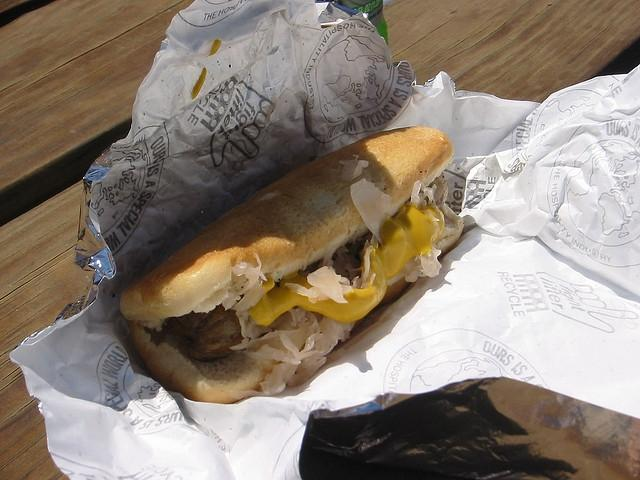onion: (350, 178, 392, 244), (307, 266, 348, 303), (235, 252, 268, 296), (260, 362, 300, 394), (283, 320, 313, 351), (232, 281, 264, 310), (254, 344, 300, 364), (419, 251, 440, 278), (410, 180, 422, 208), (294, 350, 324, 360), (308, 294, 328, 303), (422, 186, 434, 192), (421, 200, 427, 207)
